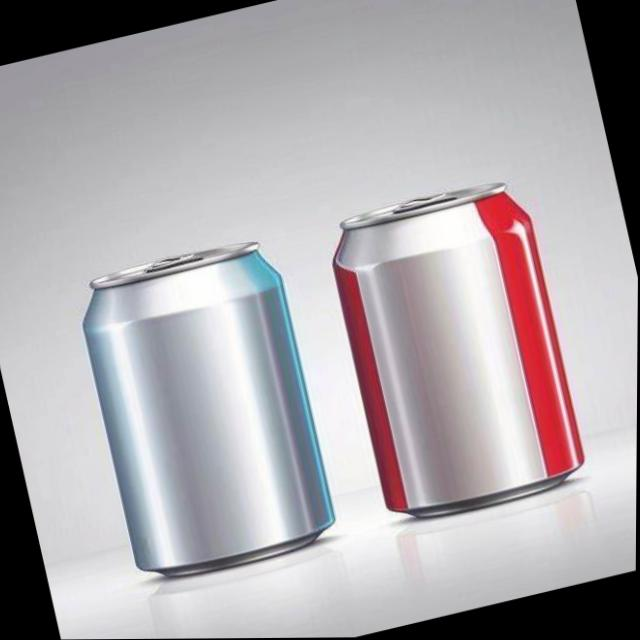Lata: (61, 224, 356, 596), (332, 178, 597, 532)
